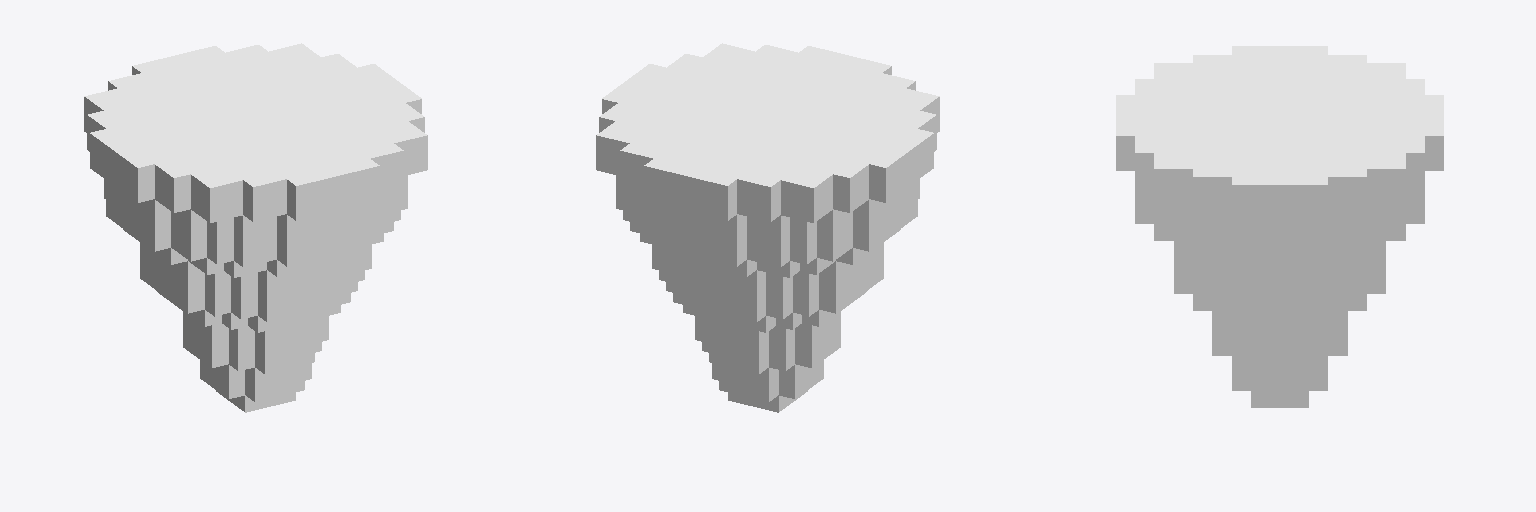
File: goblet_inside.obj
3 views of the same model, side by side, from view 1: azimuth 30°, elevation 25°; view 2: azimuth 150°, elevation 25°; view 3: azimuth 270°, elevation 25° (orthographic).
Parts seen in each view (by area): view 1: goblet_inside; view 2: goblet_inside; view 3: goblet_inside.
Part boxes in pixels (x1,y1,x2,y2): goblet_inside: (84,43,427,412); goblet_inside: (596,43,939,412); goblet_inside: (1116,46,1443,407).
Size of the model in its own units: 17 by 16 by 17.